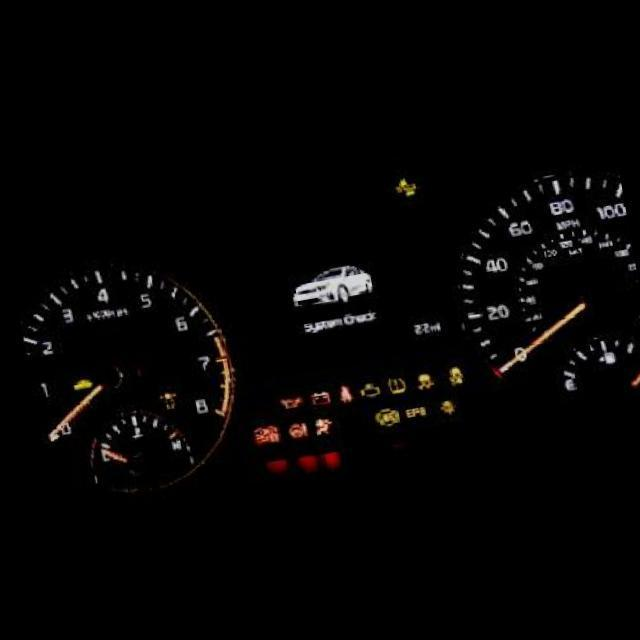Engine cooling system: (123, 424, 136, 438)
Low fuel level: (595, 347, 608, 361)
